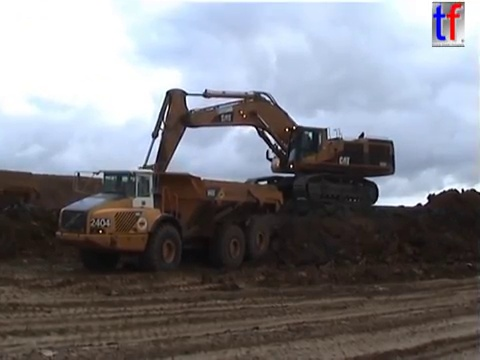excavator: (131, 85, 398, 219)
truck: (51, 160, 287, 275), (1, 168, 42, 227)
